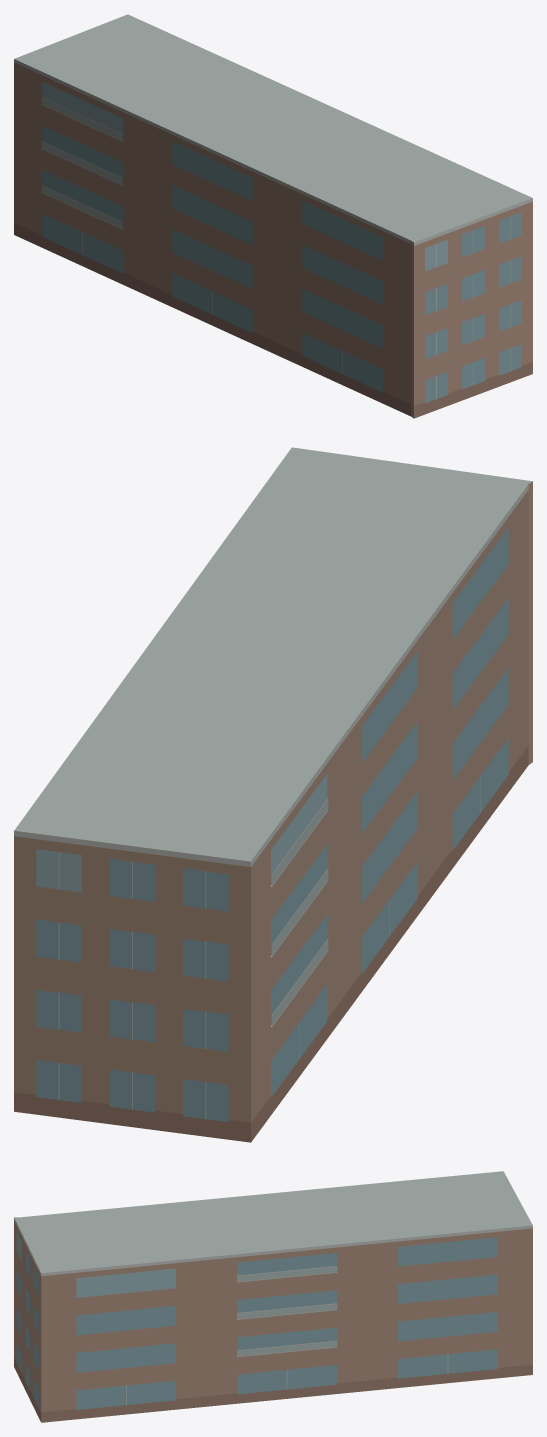
File: survey-upis-32990468.glb
The picture shows the model from 3 angles, top to bottom: view 1: azimuth 30°, elevation 25°; view 2: azimuth 150°, elevation 25°; view 3: azimuth 270°, elevation 25°; orthographic projection. The views are drawn at different scales.
Parts seen in each view (by area): view 1: survey-upis-32990468.tmp; view 2: survey-upis-32990468.tmp; view 3: survey-upis-32990468.tmp.
Boxes of the visible parts, x1,y1,x2,y2 form: survey-upis-32990468.tmp: [14, 14, 532, 418]; survey-upis-32990468.tmp: [14, 447, 532, 1142]; survey-upis-32990468.tmp: [14, 1171, 532, 1422].
Size of the model in its own units: 18.2 by 12.4 by 39.03.
